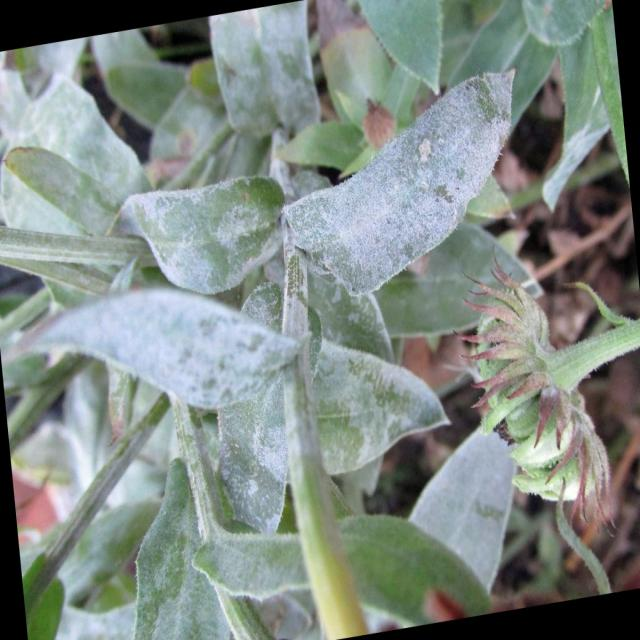Golden_canker: (451, 247, 638, 537)
Powdery Mildew: (281, 66, 516, 297), (11, 285, 304, 412)
